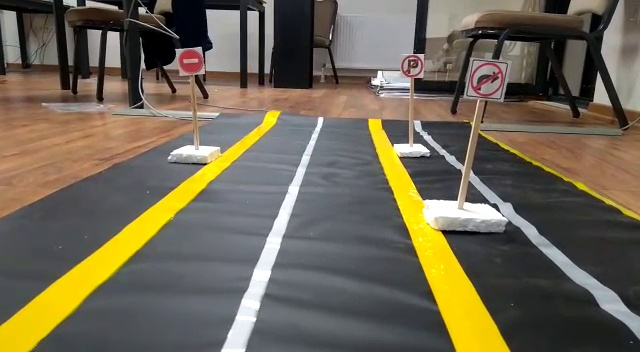girisi_olmayan_yol: (175, 46, 205, 73)
park_yapilmaz: (399, 53, 425, 78)
saga_donulmez: (468, 59, 506, 98)
